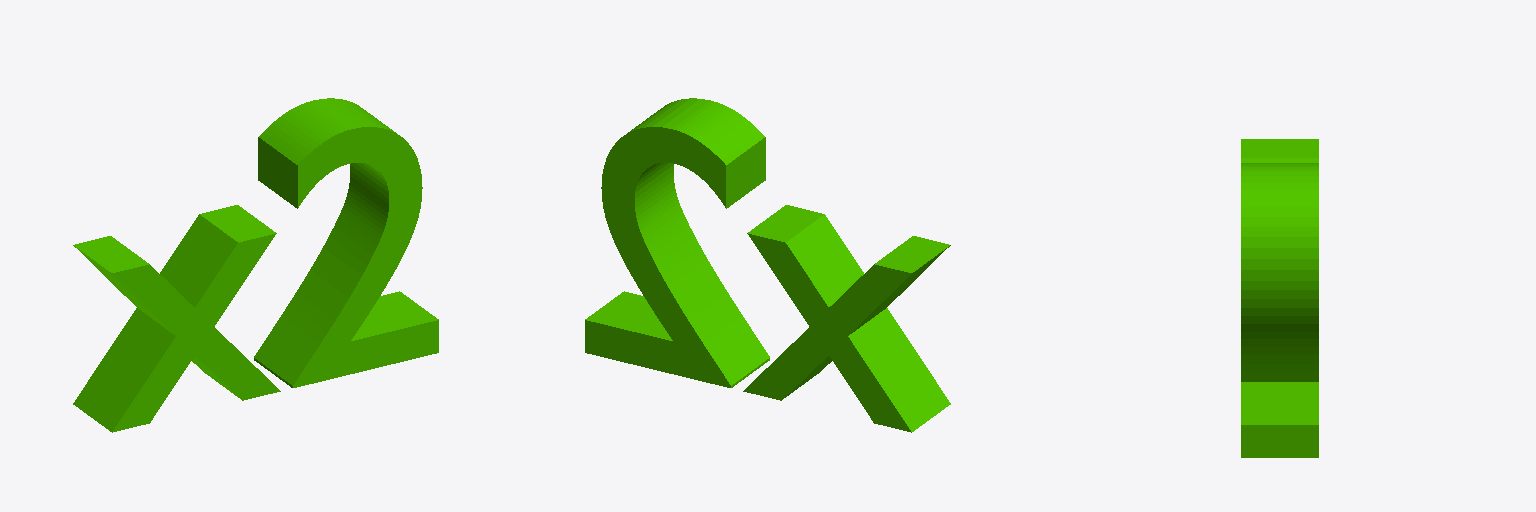
The picture shows the model from 3 angles: view 1: azimuth 30°, elevation 25°; view 2: azimuth 150°, elevation 25°; view 3: azimuth 270°, elevation 25°; orthographic projection.
Visible parts, largest first — view 1: Text_CUText; view 2: Text_CUText; view 3: Text_CUText.
Part boxes in pixels (x1,y1,x2,y2): Text_CUText: (73,98,438,432); Text_CUText: (585,98,950,432); Text_CUText: (1241,139,1318,457).
Bounding box in the file's own units: 0.966 × 0.691 × 0.2.